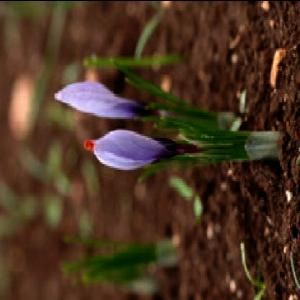Saffron: (84, 128, 188, 169), (51, 79, 151, 118)
